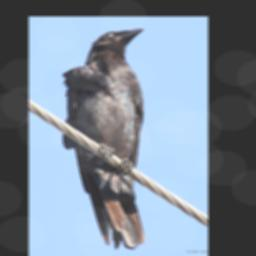Crow: (62, 26, 147, 250)
